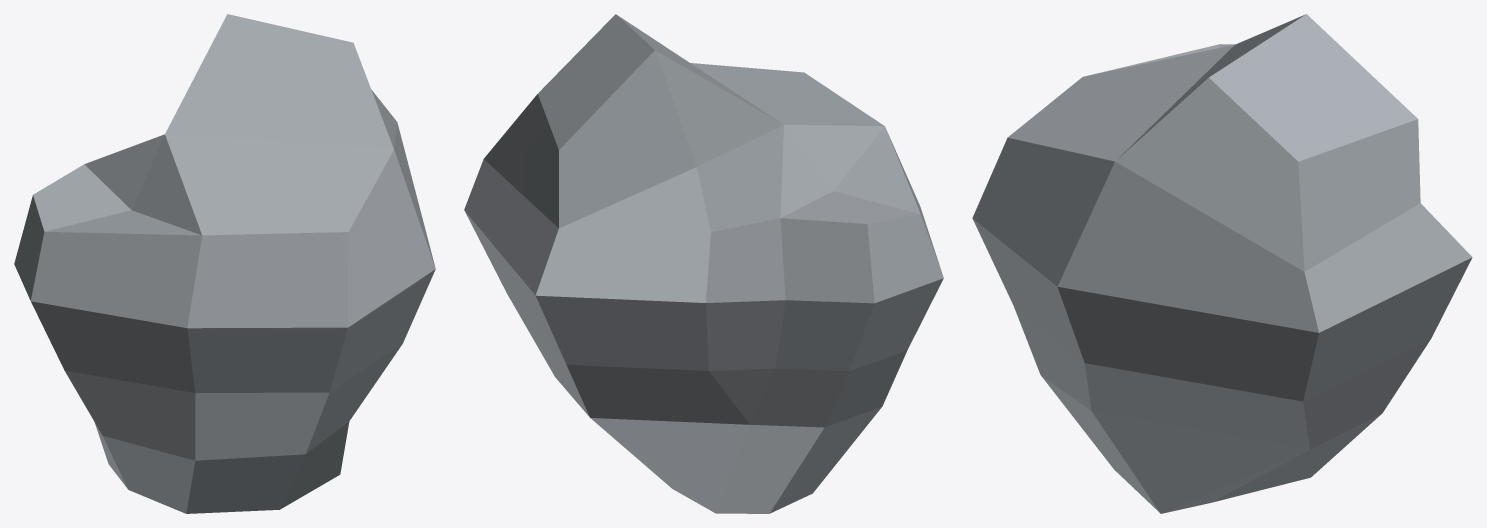
File: rock.glb
The picture shows the model from 3 angles, left to right: view 1: azimuth 30°, elevation 25°; view 2: azimuth 150°, elevation 25°; view 3: azimuth 270°, elevation 25°; orthographic projection. The views are drawn at different scales.
Parts seen in each view (by area): view 1: Small_rock_2; view 2: Small_rock_2; view 3: Small_rock_2.
Part boxes in pixels (<box>): Small_rock_2: <box>14,14,435,513</box>; Small_rock_2: <box>464,14,943,513</box>; Small_rock_2: <box>972,14,1472,513</box>.
Bounding box in the file's own units: 2.31 × 2.22 × 2.13.
1 material, 1 textured.
